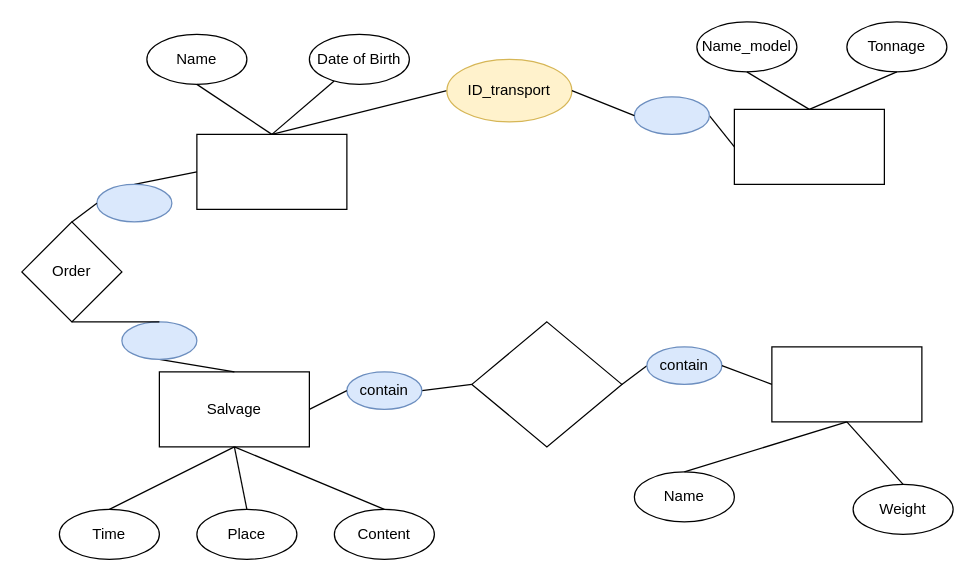
Image size: 975x581. Some labels were removed from this diagram. The centre of each missing label's shape, as x and y in pixels:
Body part: point (846, 384)
Content_Salvage: point (546, 384)
follow: point (159, 340)
fulfill: point (134, 202)
own: point (671, 115)
People: point (271, 171)
Transport: point (808, 146)
